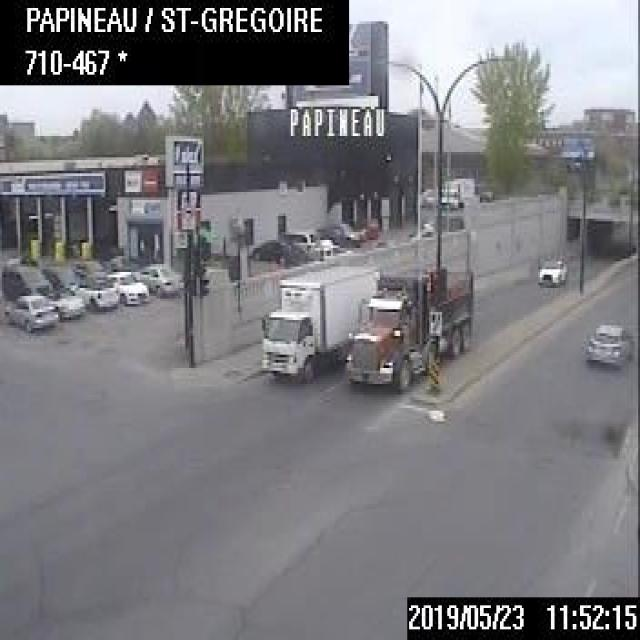vehicle: (258, 259, 382, 389), (345, 267, 473, 388), (2, 289, 58, 334), (69, 270, 120, 312), (100, 269, 148, 307), (0, 260, 55, 292), (588, 320, 628, 363), (135, 260, 181, 296), (282, 228, 332, 260), (41, 286, 84, 322), (437, 171, 478, 208), (250, 235, 304, 263), (322, 219, 363, 245), (44, 262, 80, 290), (536, 256, 566, 283), (72, 259, 104, 283)
